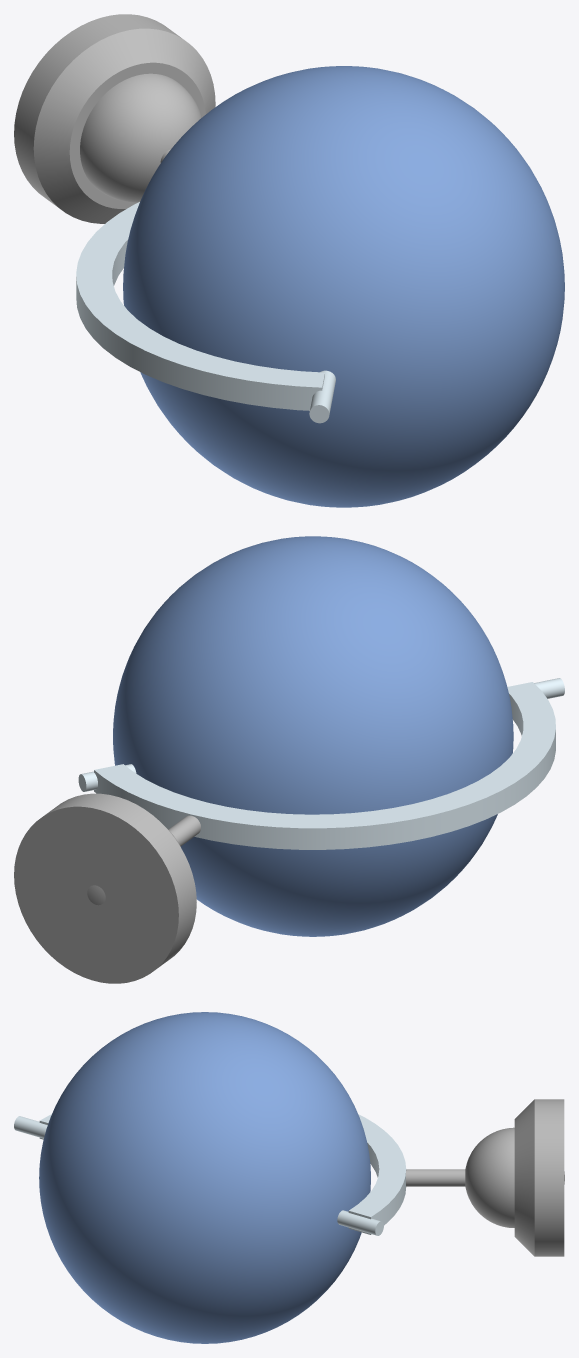
The model's file is Globe.glb.
3 renders of one model, top to bottom at view 1: azimuth 30°, elevation 25°; view 2: azimuth 150°, elevation 25°; view 3: azimuth 270°, elevation 25°, orthographic. The views are drawn at different scales.
Visible parts, largest first — view 1: Part 3, Part 1, Part 2; view 2: Part 3, Part 1, Part 2; view 3: Part 3, Part 1, Part 2.
Part boxes in pixels (left/top/right/bottom): Part 3: left=123, top=66, right=564, bottom=507; Part 1: left=14, top=14, right=215, bottom=223; Part 2: left=76, top=202, right=335, bottom=423; Part 3: left=113, top=536, right=513, bottom=936; Part 1: left=14, top=793, right=200, bottom=983; Part 2: left=78, top=678, right=564, bottom=849; Part 3: left=39, top=1012, right=370, bottom=1343; Part 1: left=406, top=1099, right=564, bottom=1256; Part 2: left=14, top=1114, right=406, bottom=1235.
Size of the model in its own units: 0.1886 by 0.1706 by 0.2831.
